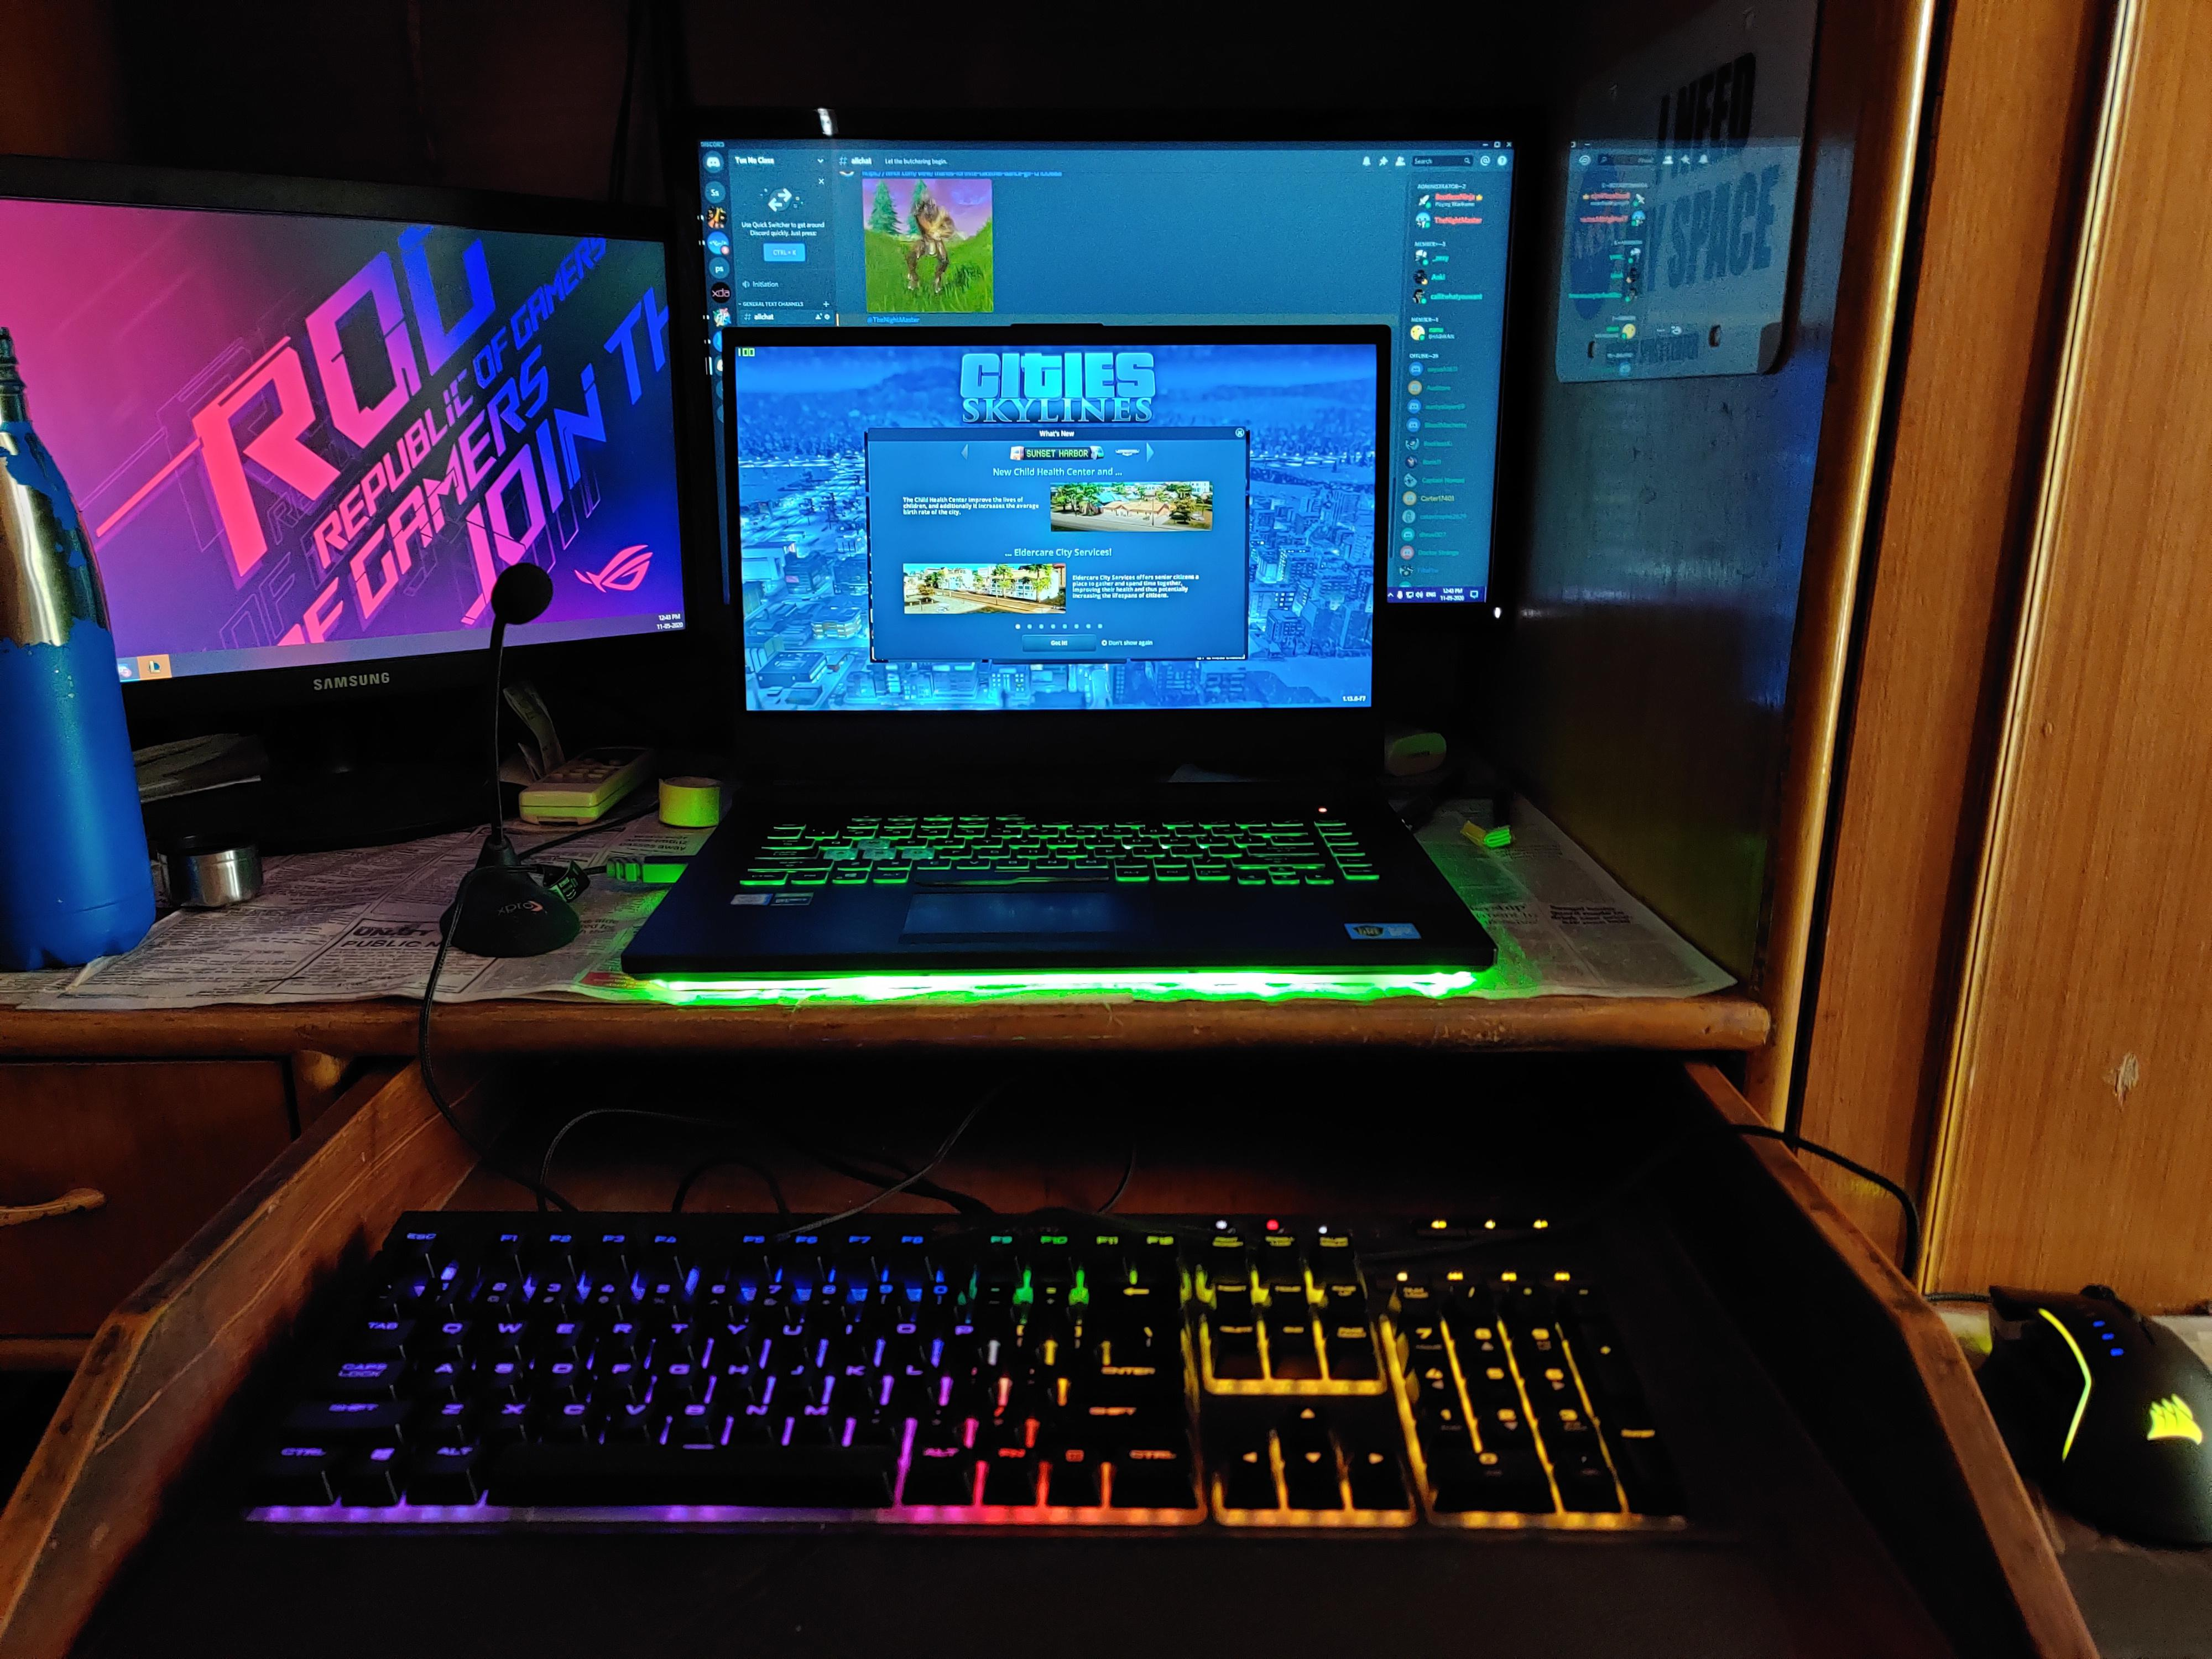Desk (Generic): (2, 760, 2101, 1659)
External Microphone (Generic): (439, 561, 582, 955)
Keyboard (Gaming): (221, 1209, 1721, 1558)
Laptop (Generic): (622, 328, 1501, 990)
Monitor (Landscape): (664, 106, 1534, 650), (0, 150, 725, 755)
Monitor (Laptop): (726, 328, 1381, 772)
Mouse (Gaming): (1973, 1281, 2212, 1549)
Water Bottle: (0, 326, 157, 971)
